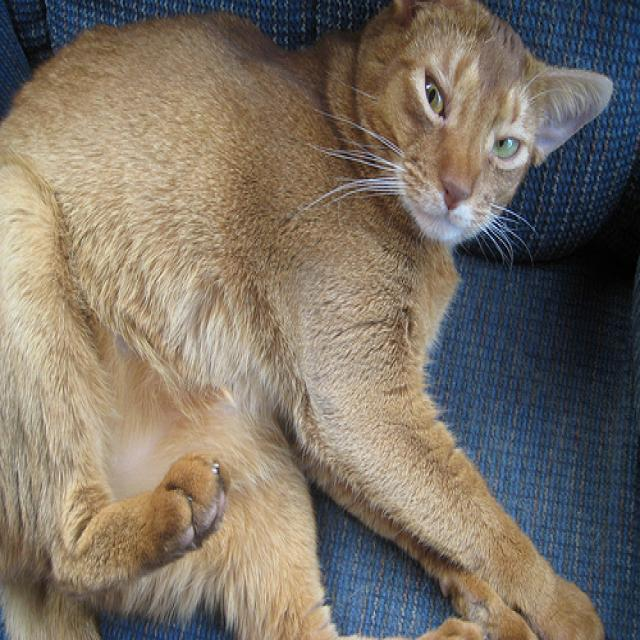Abyssinian: (351, 0, 618, 258)
